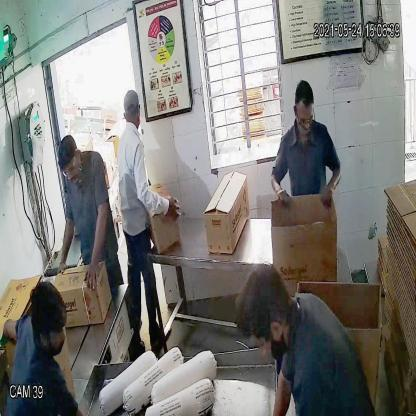goggles: (292, 106, 317, 129), (58, 155, 80, 178)
